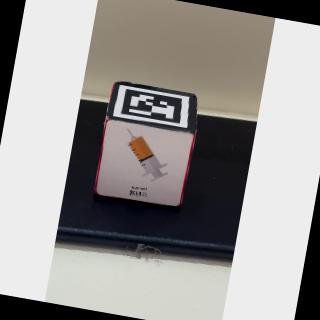Syringe: (95, 116, 197, 210)
